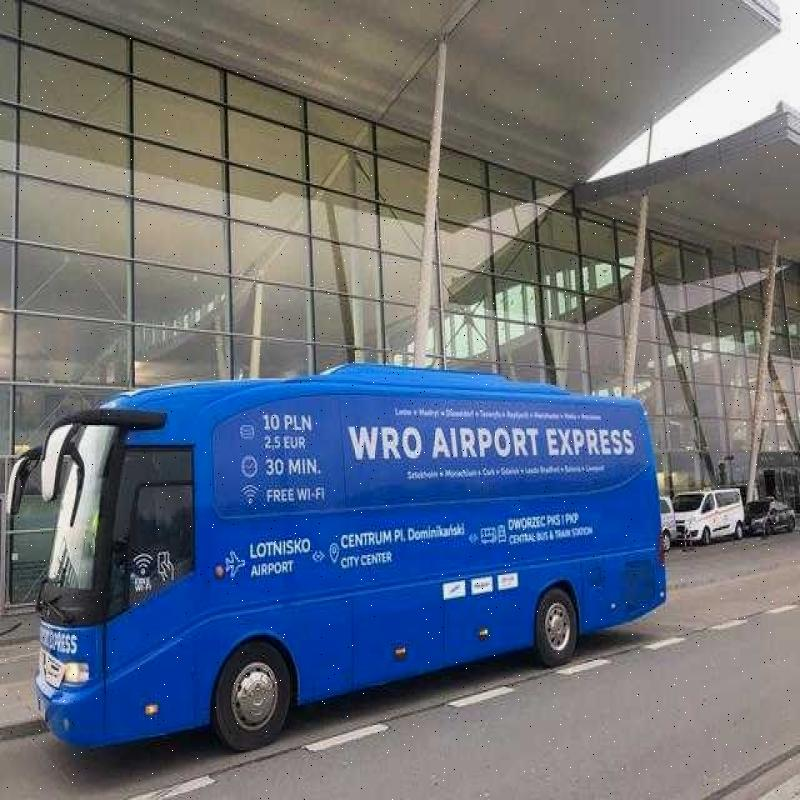bus: (25, 337, 686, 730)
